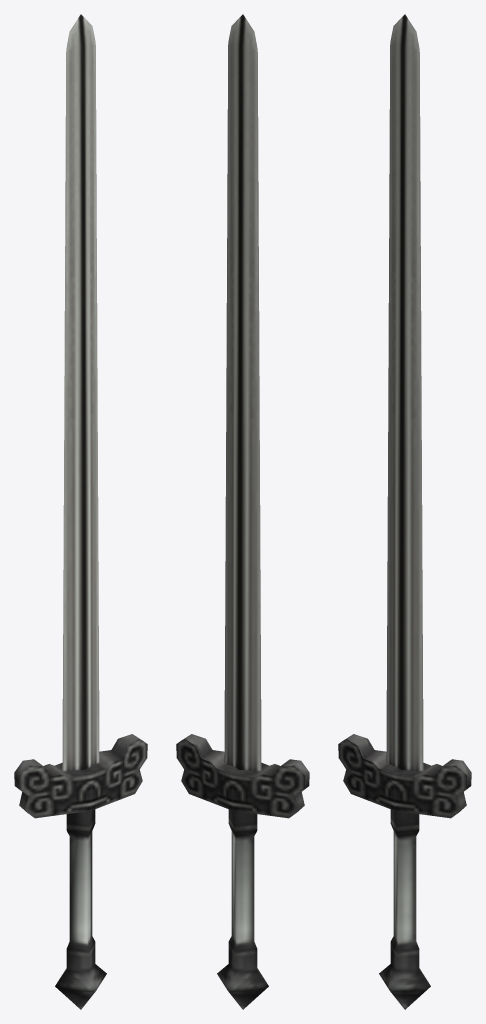
File: Sword27.FBX
3 renders of one model, left to right at view 1: azimuth 30°, elevation 25°; view 2: azimuth 150°, elevation 25°; view 3: azimuth 330°, elevation 25°, orthographic.
Visible parts, largest first — view 1: Sword27; view 2: Sword27; view 3: Sword27.
Part boxes in pixels (x1,y1,x2,y2): Sword27: (14, 14, 147, 1009); Sword27: (176, 14, 309, 1009); Sword27: (338, 14, 471, 1009).
Size of the model in its own units: 14.96 by 110 by 6.04.
